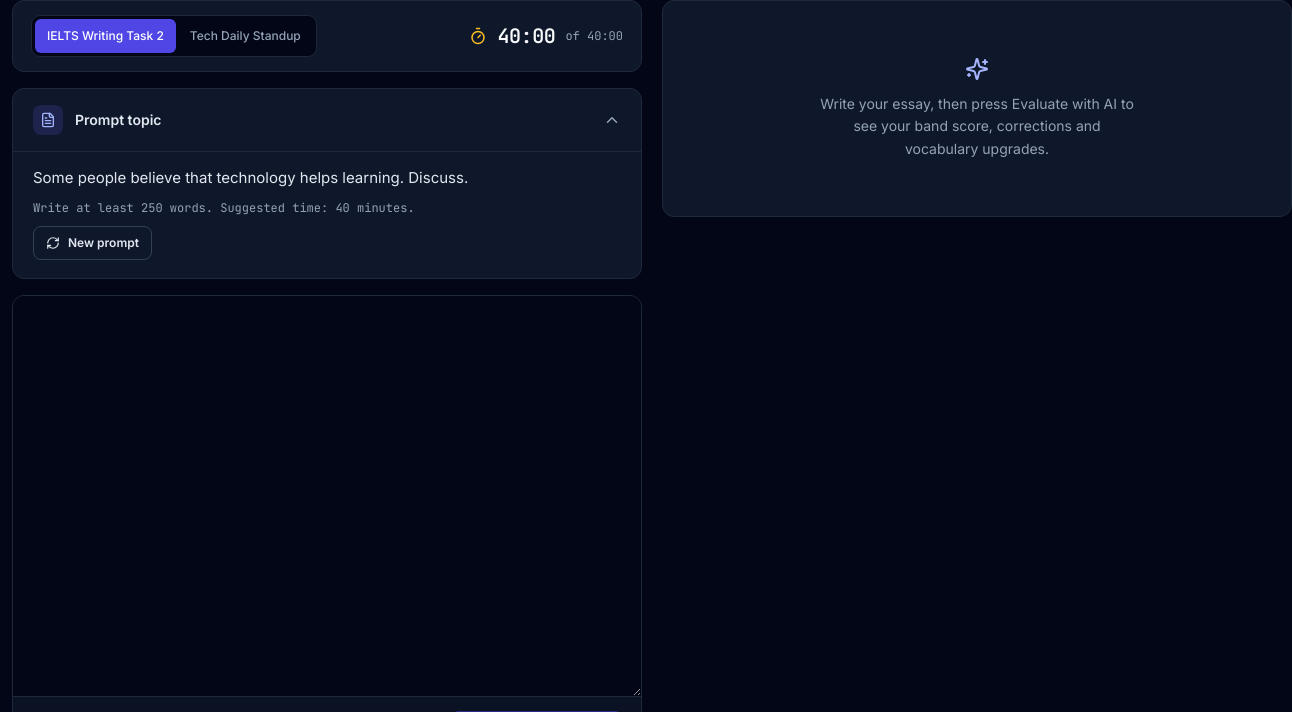
Test: the prompt accordion collapses and expands
Check: the text "Some people believe that technology helps learning. Discuss." is shown, box [33, 168, 468, 187]
Click the button "Prompt topic" at (118, 120), box [13, 89, 641, 151]
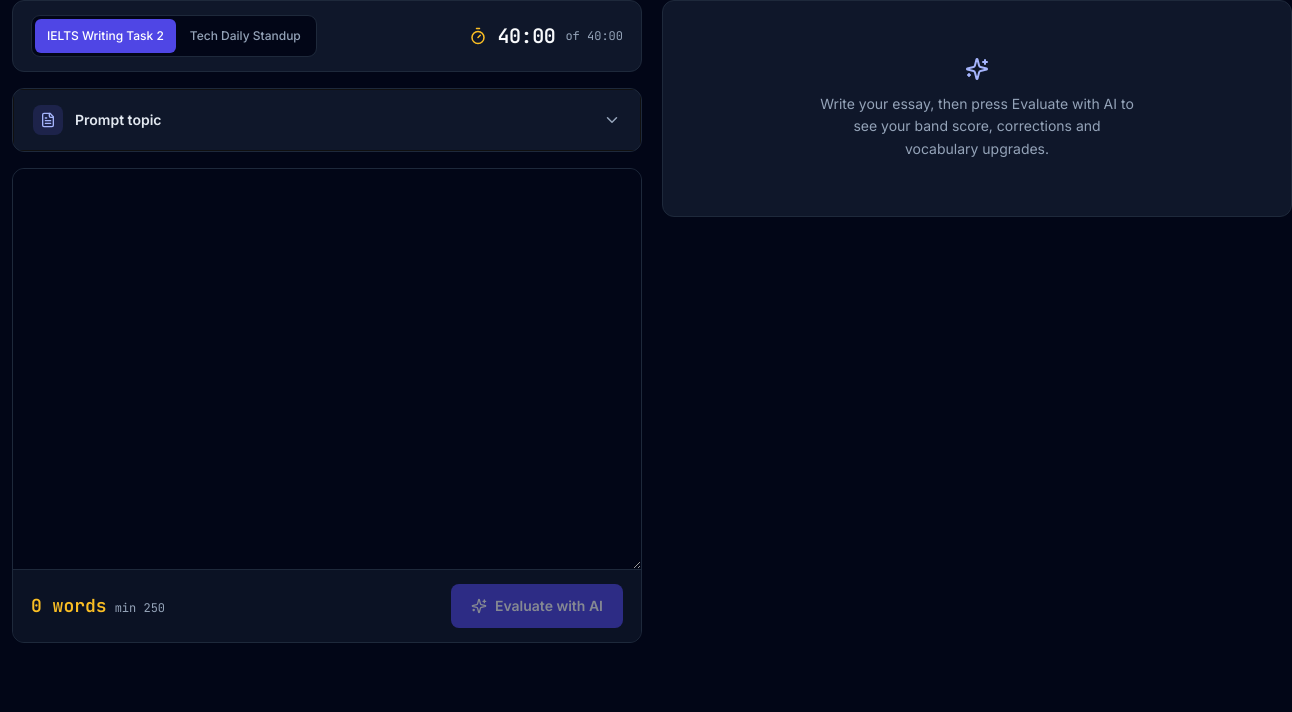
Check: the text "Some people believe that technology helps learning. Discuss." is gone
Click the button "Prompt topic" at (118, 120), box [13, 89, 641, 151]
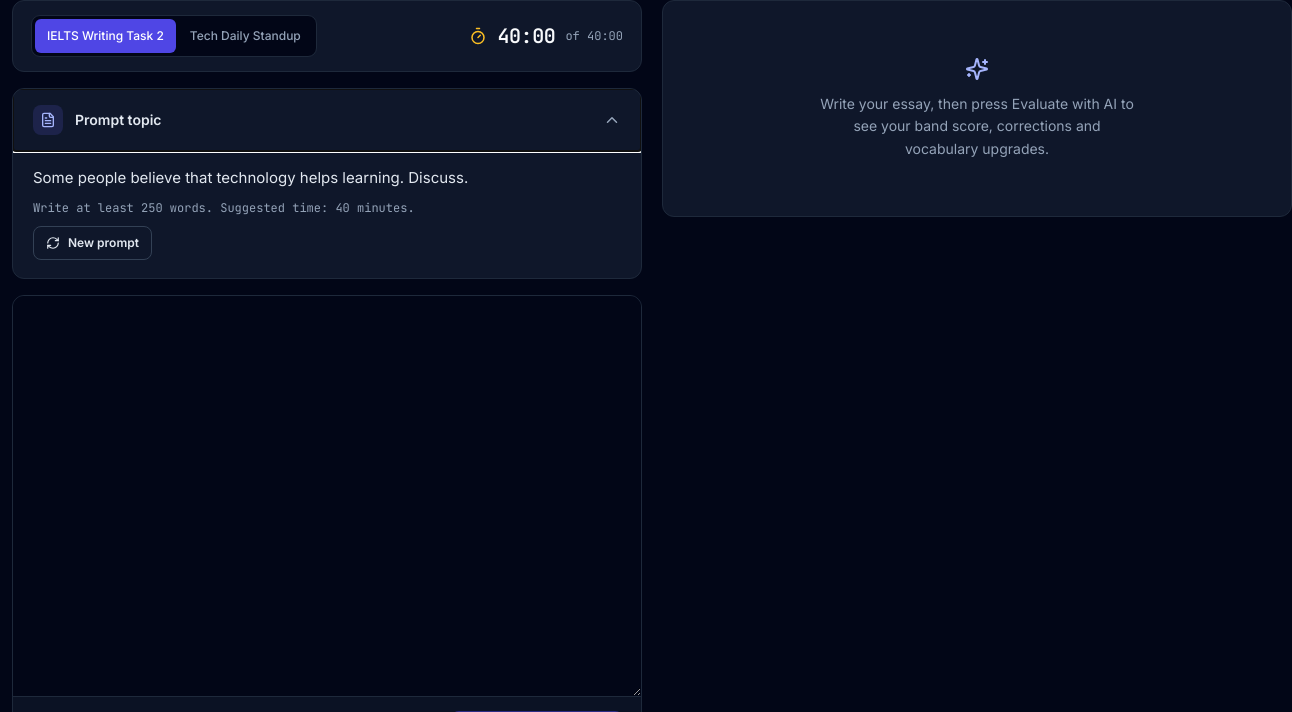
Check: the text "Some people believe that technology helps learning. Discuss." is shown, box [33, 168, 468, 187]
